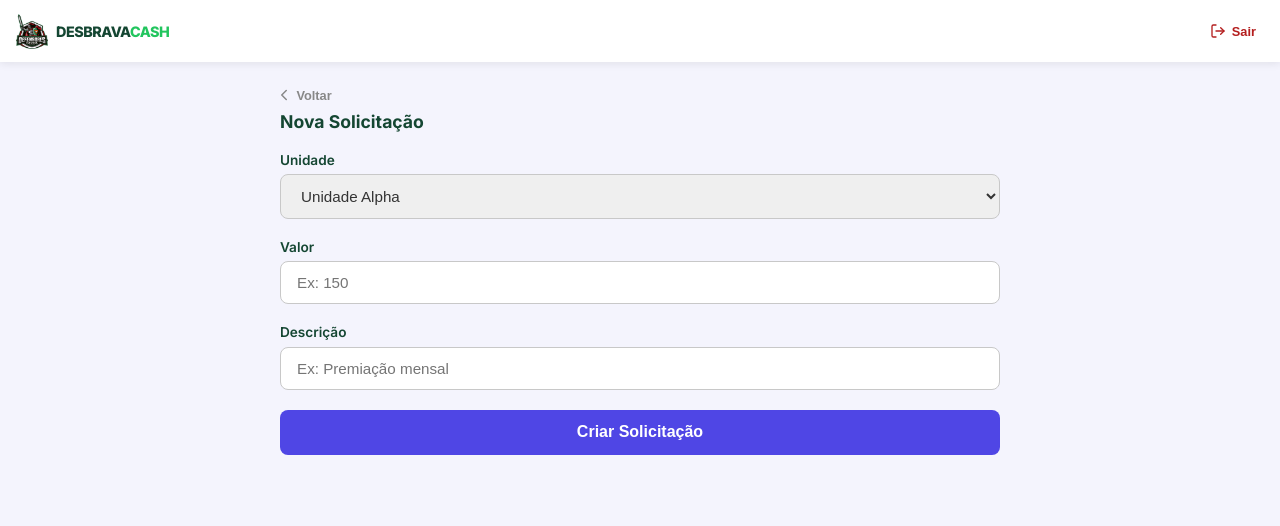
Test: NovaTransacaoPage › exibe mensagem de sucesso após criar solicitação
Type "100" into the number field labelled "Valor" at coordinates (640, 283), box [280,261,1000,304]
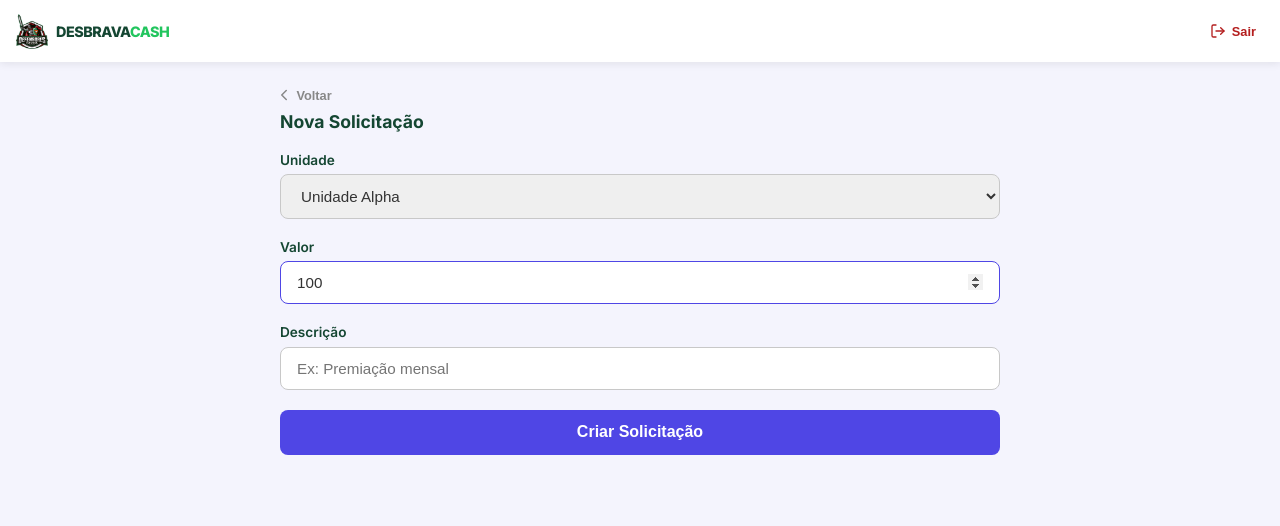
Type "Teste" into the field labelled "Descrição" at coordinates (640, 368), box [280,347,1000,390]
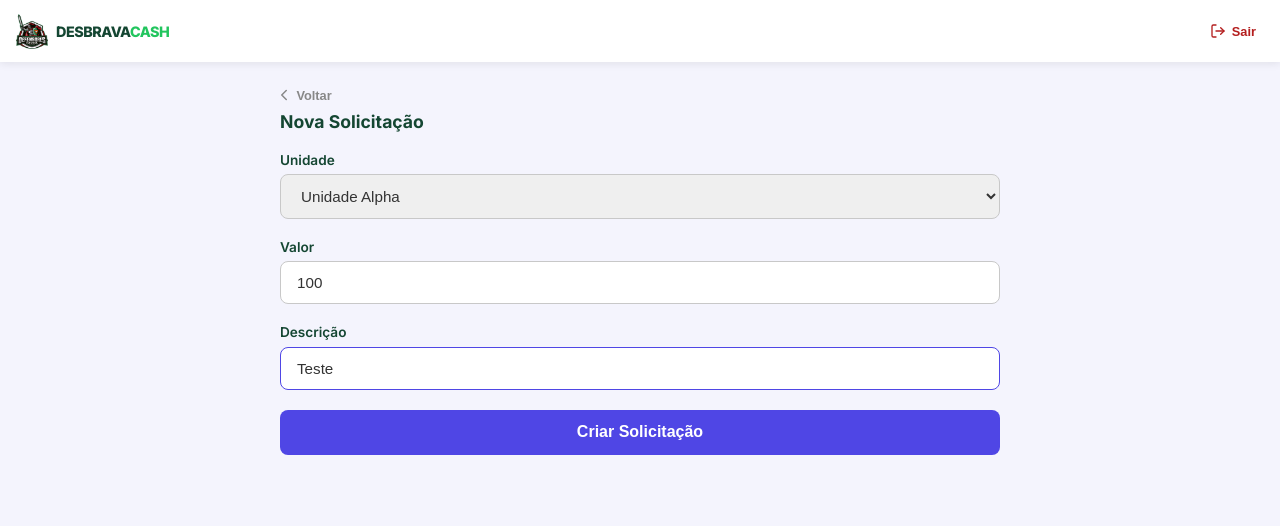
Click the button "Criar Solicitação" at coordinates (640, 432), box [280,410,1000,455]
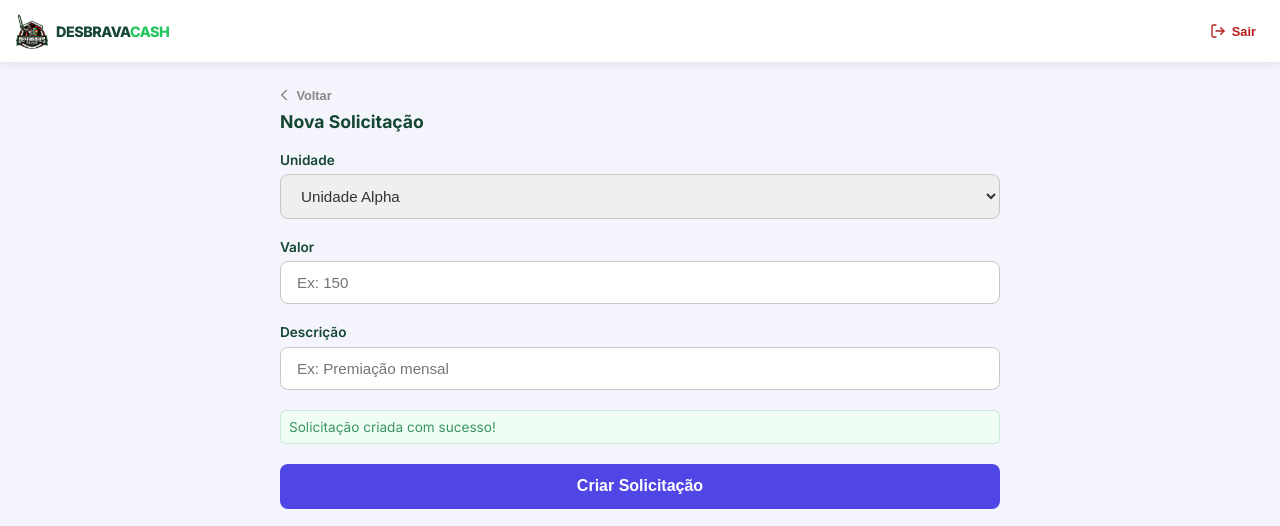
Check: the text "Solicitação criada com sucesso!" is shown, box [280,410,1000,444]
